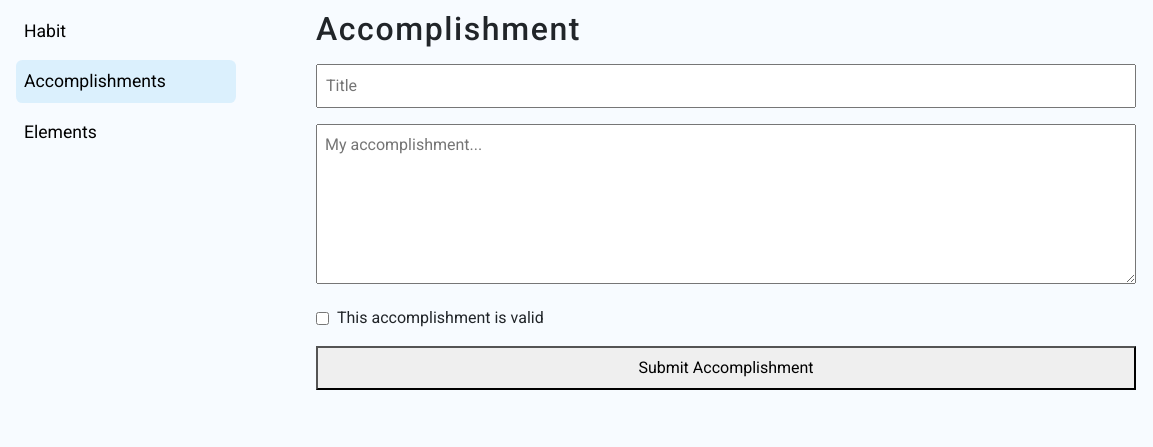
it: accomplishments dashboard › should showcase error if information is missing but checkbox is checked
Click the checkbox with test id "accomplishment-checkbox": (323, 319) top-left (316, 312), bottom-right (329, 325)
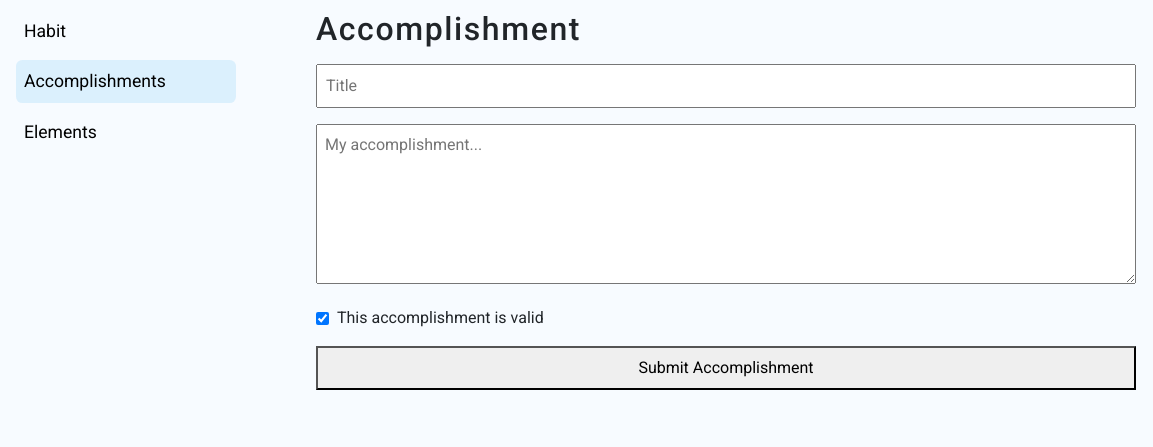
Click the button with class "Accomplishment-btn": (726, 368) top-left (316, 346), bottom-right (1136, 390)
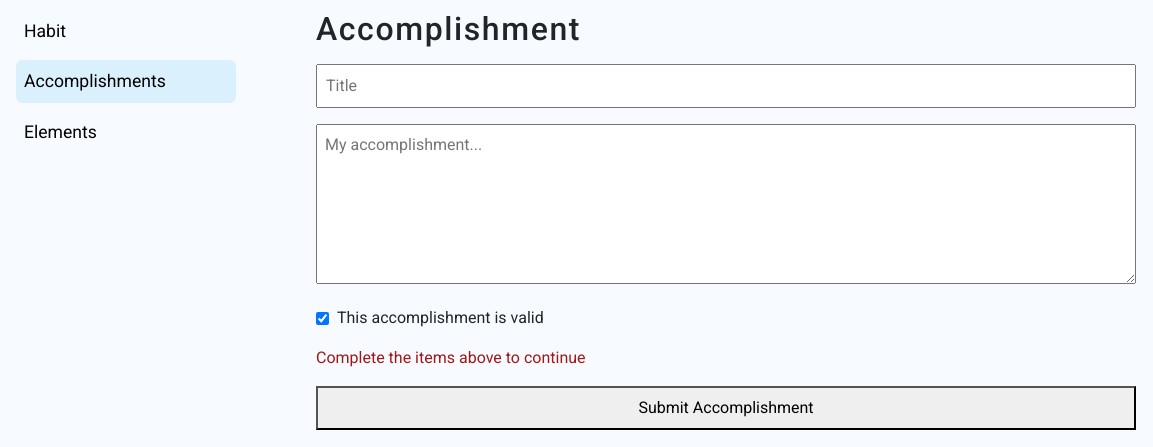
expect the text "Complete the items above to continue" is shown: met, box top-left (316, 348), bottom-right (586, 367)
